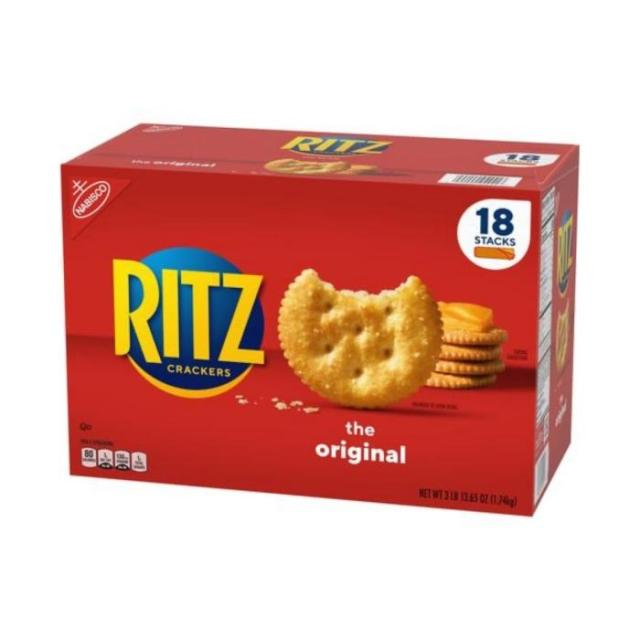Caja: (53, 94, 584, 521)
